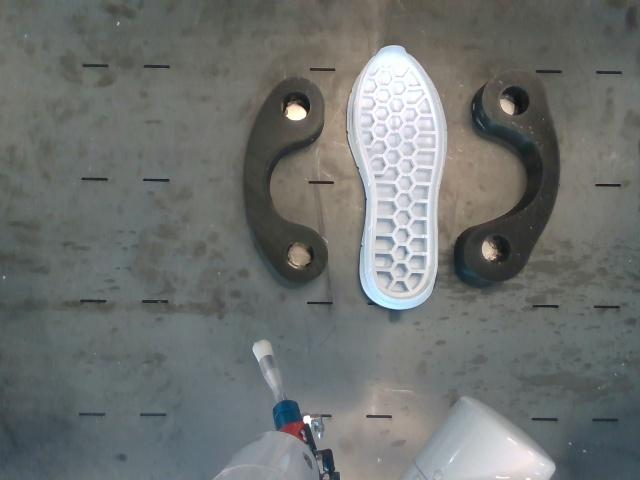shoes: (355, 45, 447, 299)
